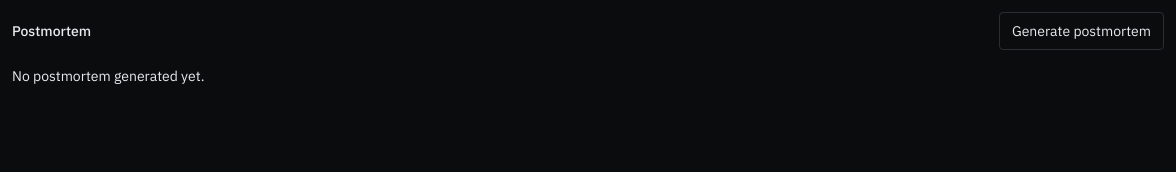
Test: PostmortemPanel › shows a distinct message for a 502 AI failure
The width and height of the screenshot is (1176, 172).
Expected: the text "No postmortem generated yet." is shown, [12, 67, 204, 85]
Click the button "Generate postmortem". click: (1081, 31)
box: [999, 12, 1164, 50]
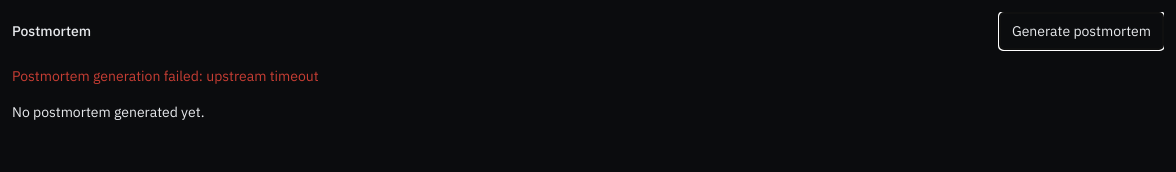
Result: the text "Postmortem generation failed: upstream timeout" is shown at [12, 67, 319, 85]
